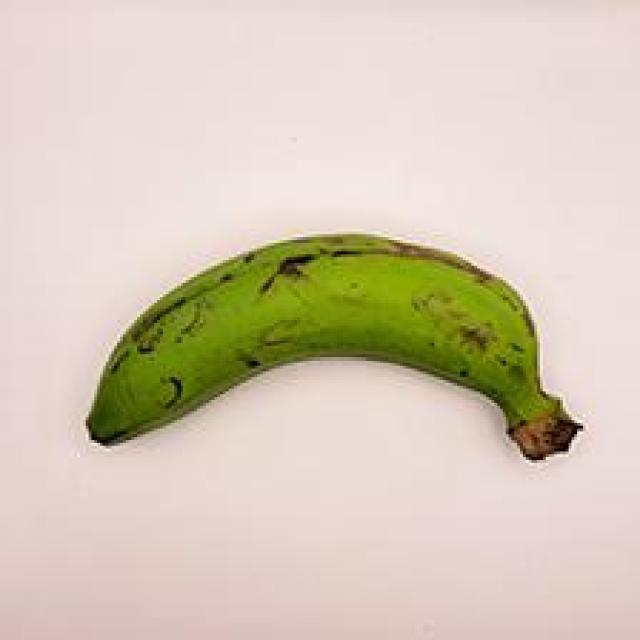Raw: (75, 220, 596, 515)
